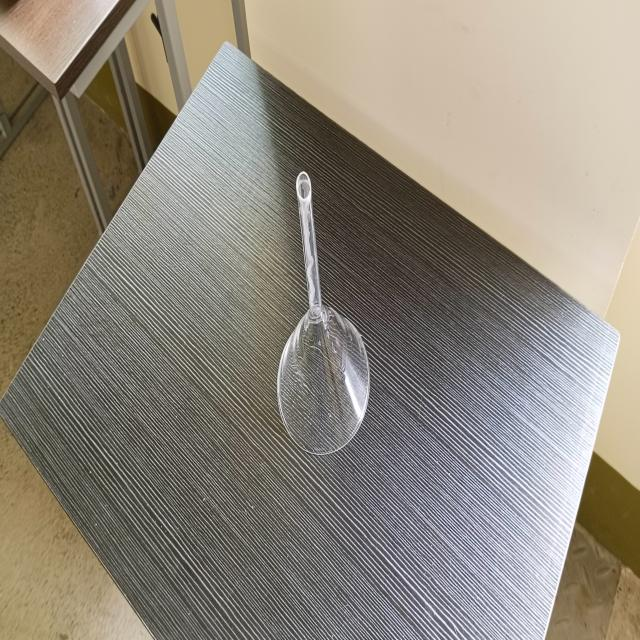funnel: (268, 165, 375, 462)
